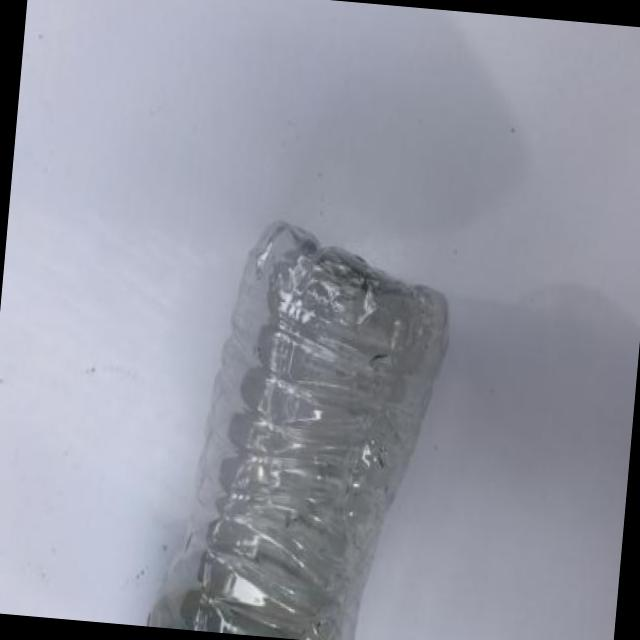Recycle: (139, 204, 457, 640)
